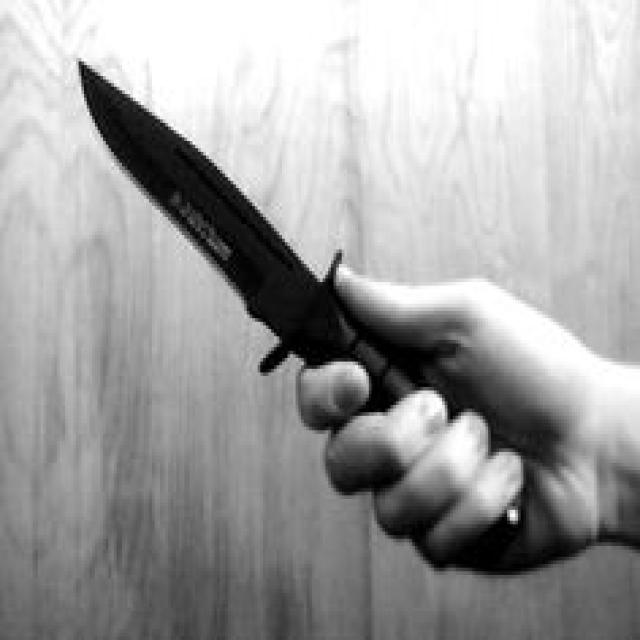knife: (73, 43, 346, 370)
